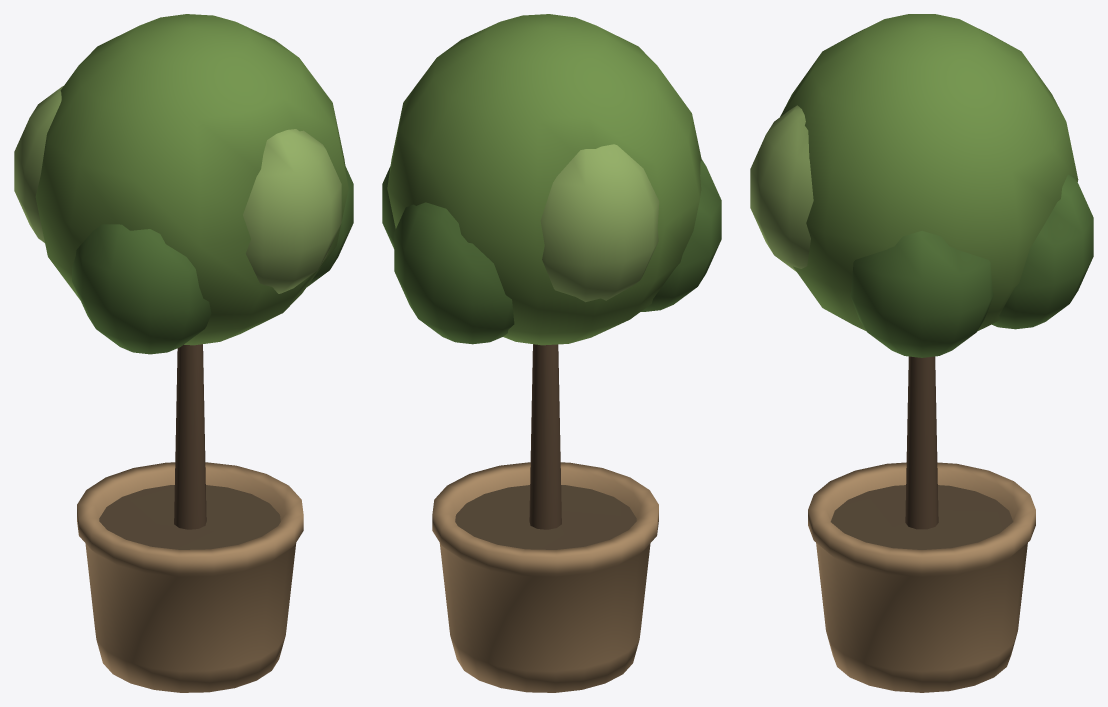
Rendered from mp_tree_pot.glb.
3 renders of one model, left to right at view 1: azimuth 30°, elevation 25°; view 2: azimuth 150°, elevation 25°; view 3: azimuth 270°, elevation 25°, orthographic.
Visible parts, largest first — view 1: mp_tree_pot; view 2: mp_tree_pot; view 3: mp_tree_pot.
Part boxes in pixels (x1,y1,x2,y2): mp_tree_pot: (14, 14, 353, 692); mp_tree_pot: (382, 14, 721, 692); mp_tree_pot: (750, 14, 1093, 692).
Size of the model in its own units: 1.5 by 3.1 by 1.54.
